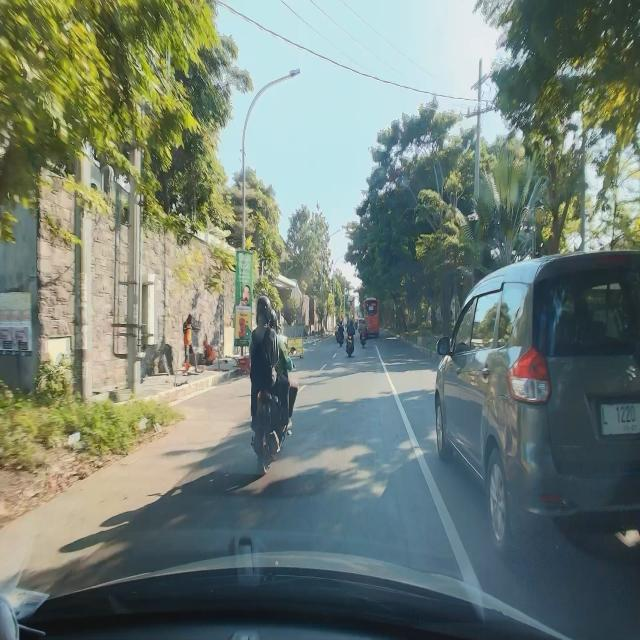bus: (362, 296, 381, 339)
car: (433, 243, 640, 562)
